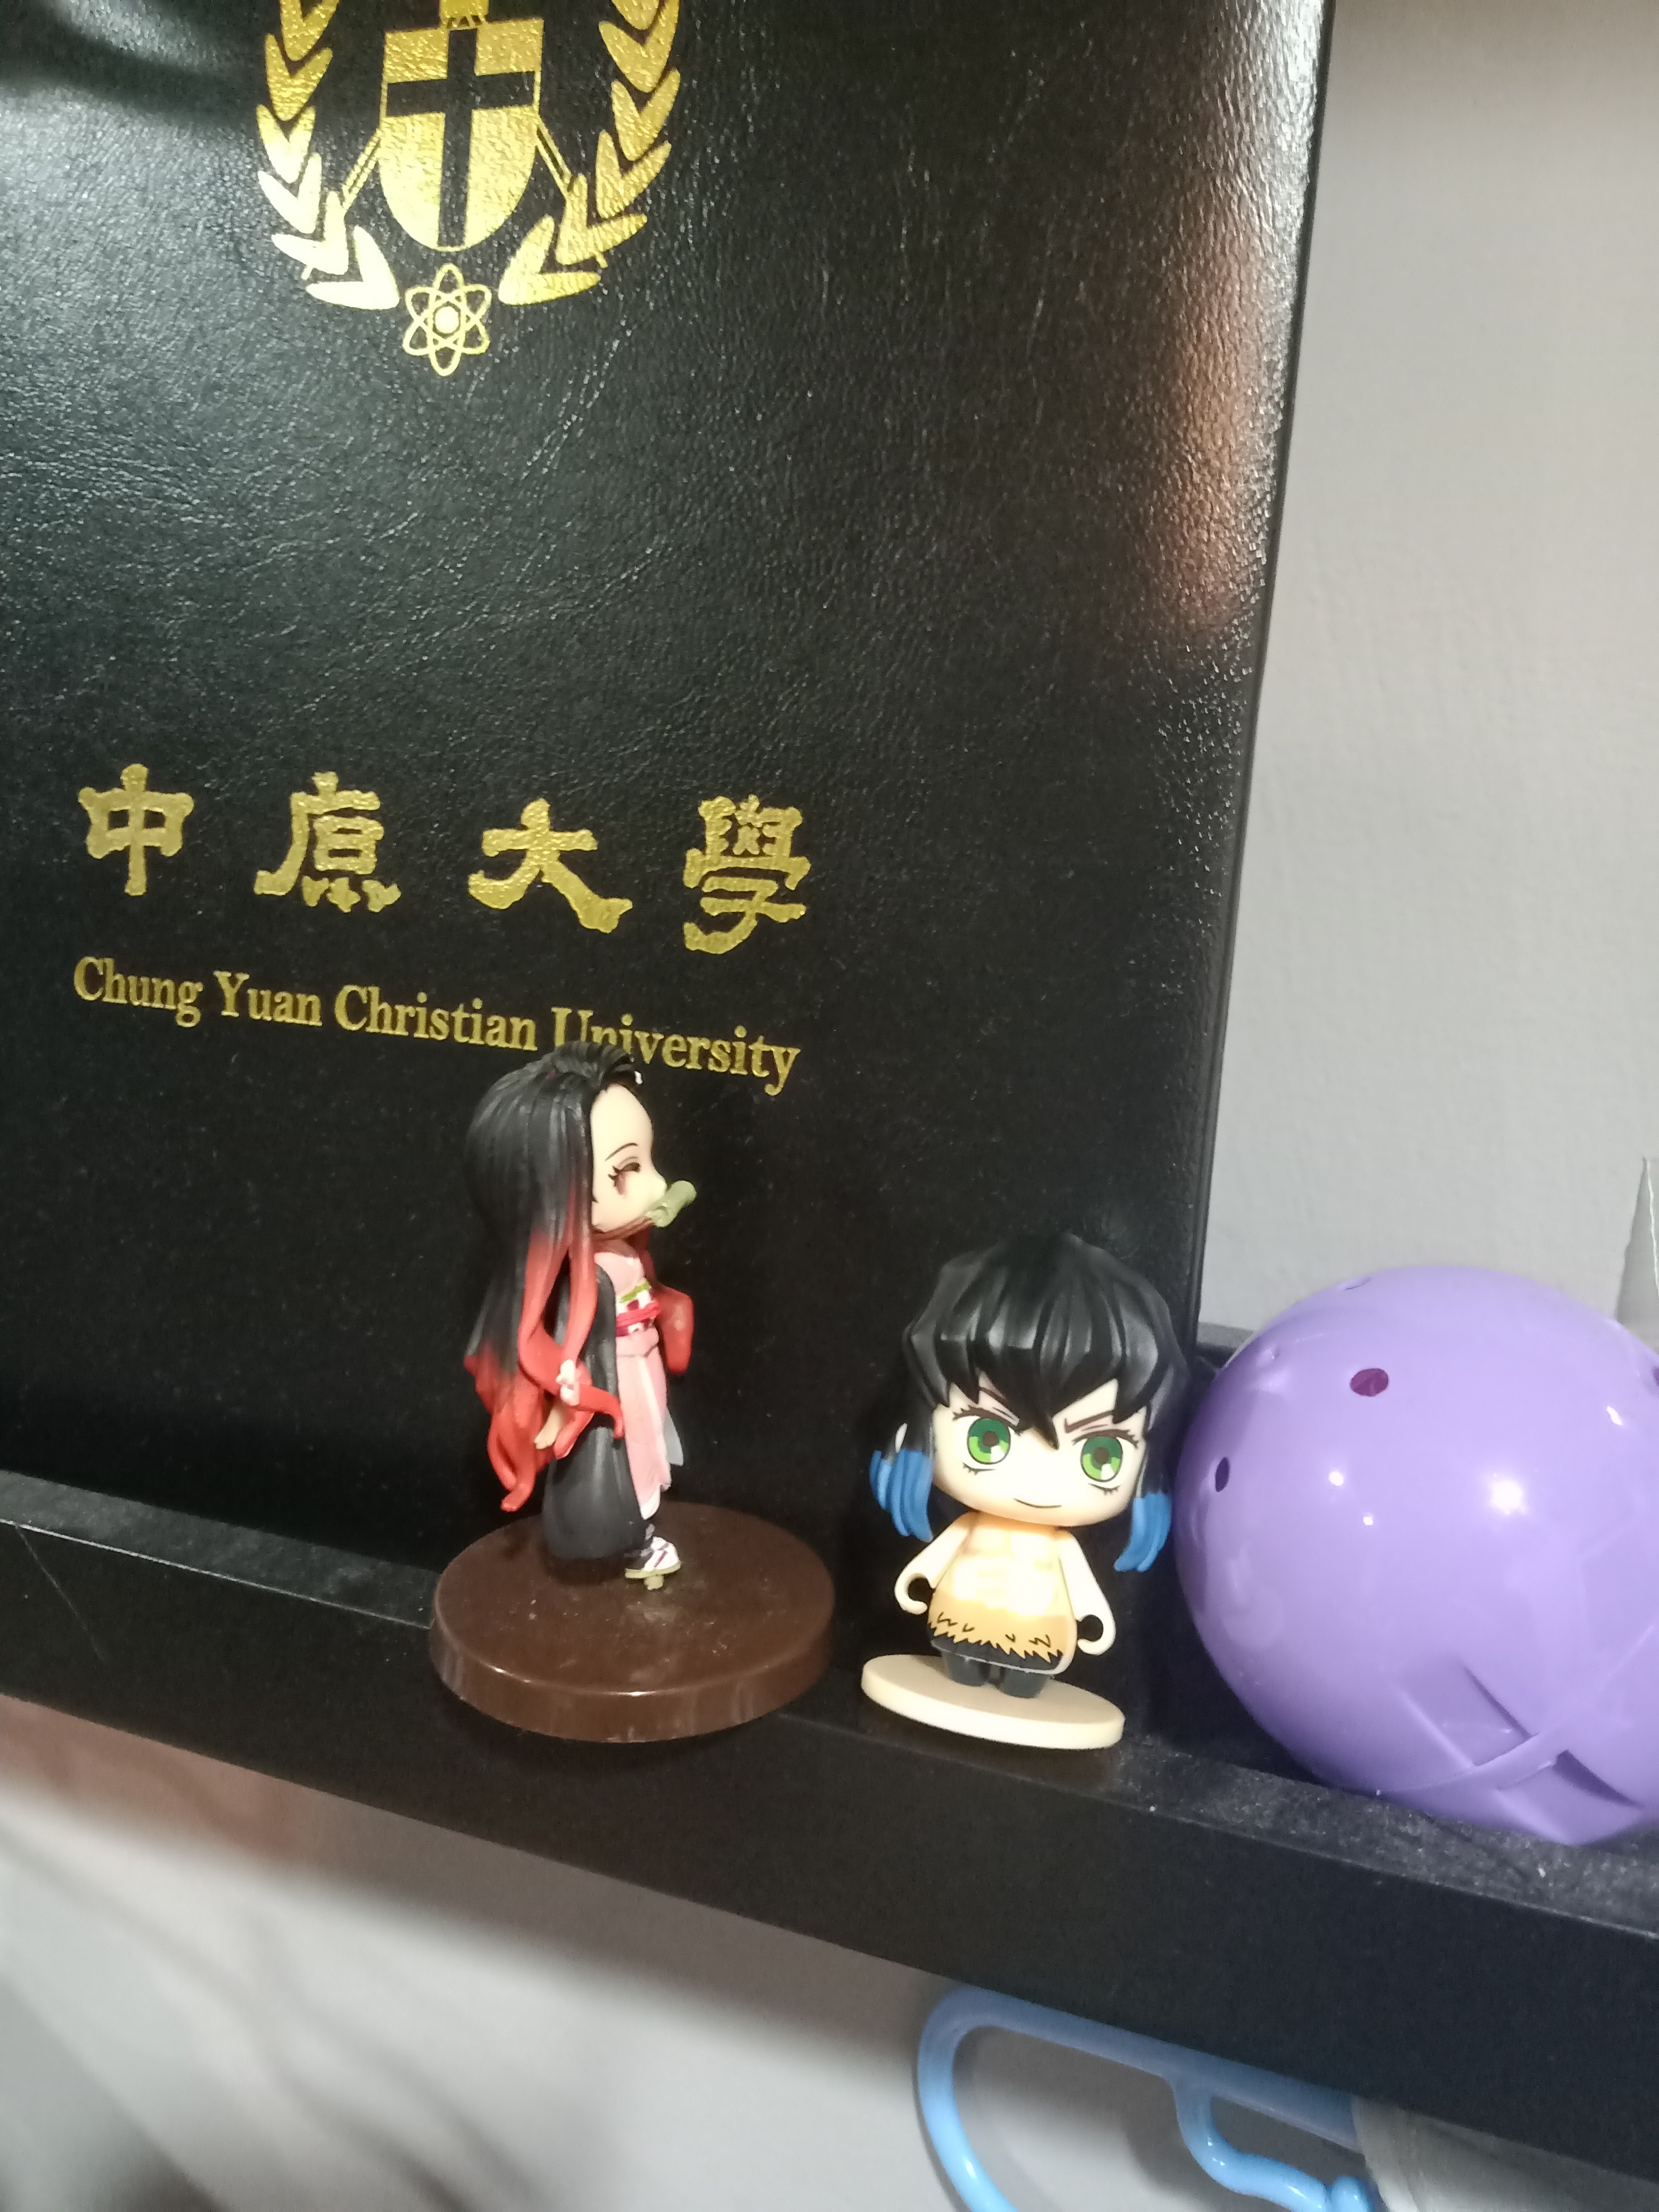Inosuke: (829, 1205, 1215, 1785)
Nezuko: (385, 1031, 850, 1761)
